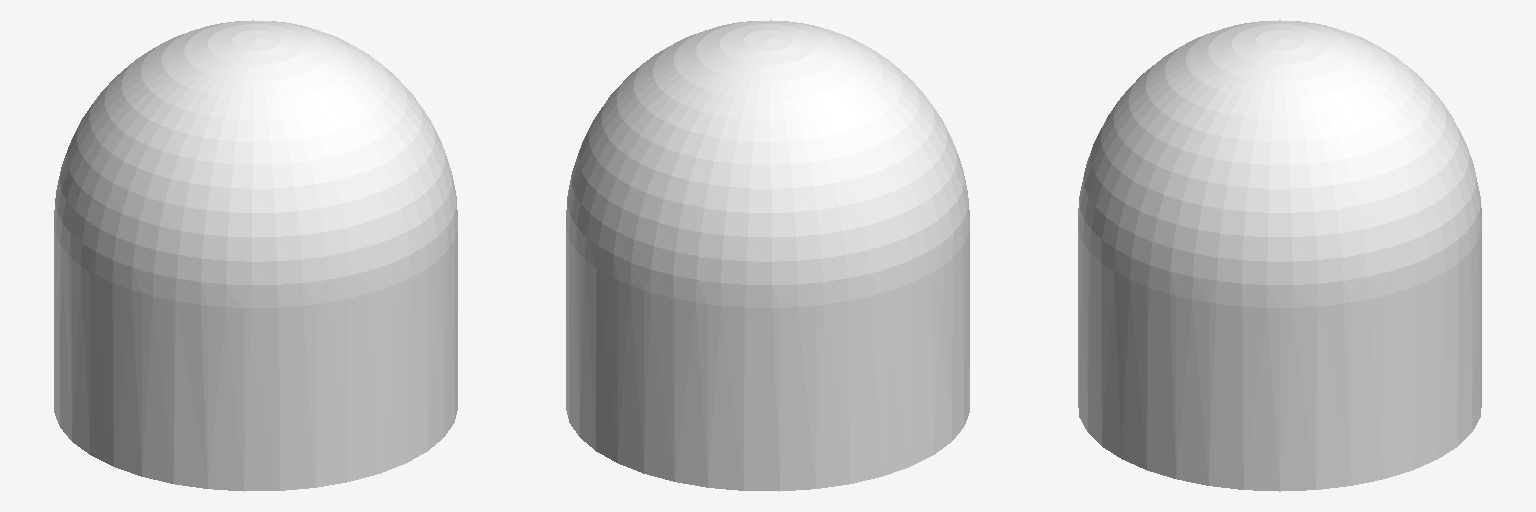
robot.urdf — urdf_robot:
<?xml version="1.0" ?>
<robot name="urdf_robot">

  <link name="base_link">
    <contact>
      <rolling_friction value="0.001"/>
      <spinning_friction value="0.001"/>
    </contact>
    <inertial>
      <origin rpy="0 0 0" xyz="0 0 0"/>
       <mass value=".1"/>
       <inertia ixx="1" ixy="0" ixz="0" iyy="1" iyz="0" izz="1"/>
    </inertial>
    <visual>
      <origin rpy="0 0 0" xyz="0 0 0"/>
      <geometry>
        <mesh filename="sphere3.obj" scale="1 1 1"/>
      </geometry>
      <material name="white">
        <color rgba="1 1 1 1"/>
      </material>
    </visual>
    <collision>
      <origin rpy="0 0 0" xyz="0 0 0"/>
      <geometry>
        <mesh filename="sphere3.obj" scale="1 1 1"/>
      </geometry>
    </collision>
  </link>
</robot>

--- What the picture shows (computed from the rendered views, not written in the file) ---
The picture shows the robot from 3 angles, left to right: view 1: azimuth 30°, elevation 25°; view 2: azimuth 150°, elevation 25°; view 3: azimuth 270°, elevation 25°; orthographic projection.
Robot: urdf_robot — 1 links, 0 joints (none); root link base_link; default pose: every joint at zero.
Visible links, largest first — view 1: base_link; view 2: base_link; view 3: base_link.
Link boxes in pixels (x1,y1,x2,y2): base_link: (54,20,457,491); base_link: (566,20,969,491); base_link: (1078,20,1481,491).
Bounding box of the posed robot: 0.006 × 0.006 × 0.006 m (x, y, z).
Meshes: 1 distinct files referenced, 1 mesh visuals loaded (1 OBJ).